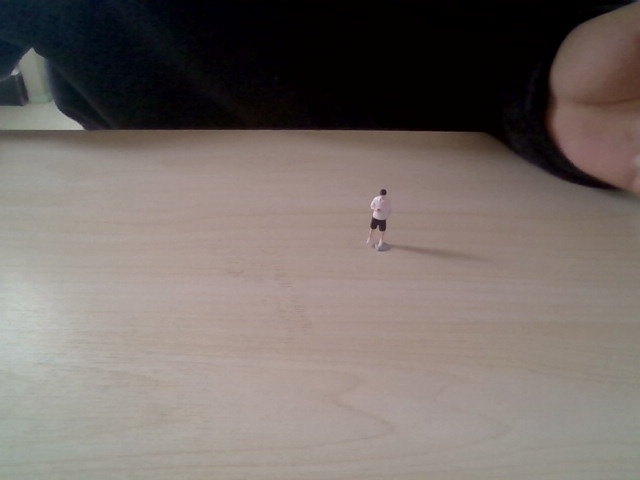walk: (362, 183, 394, 250)
